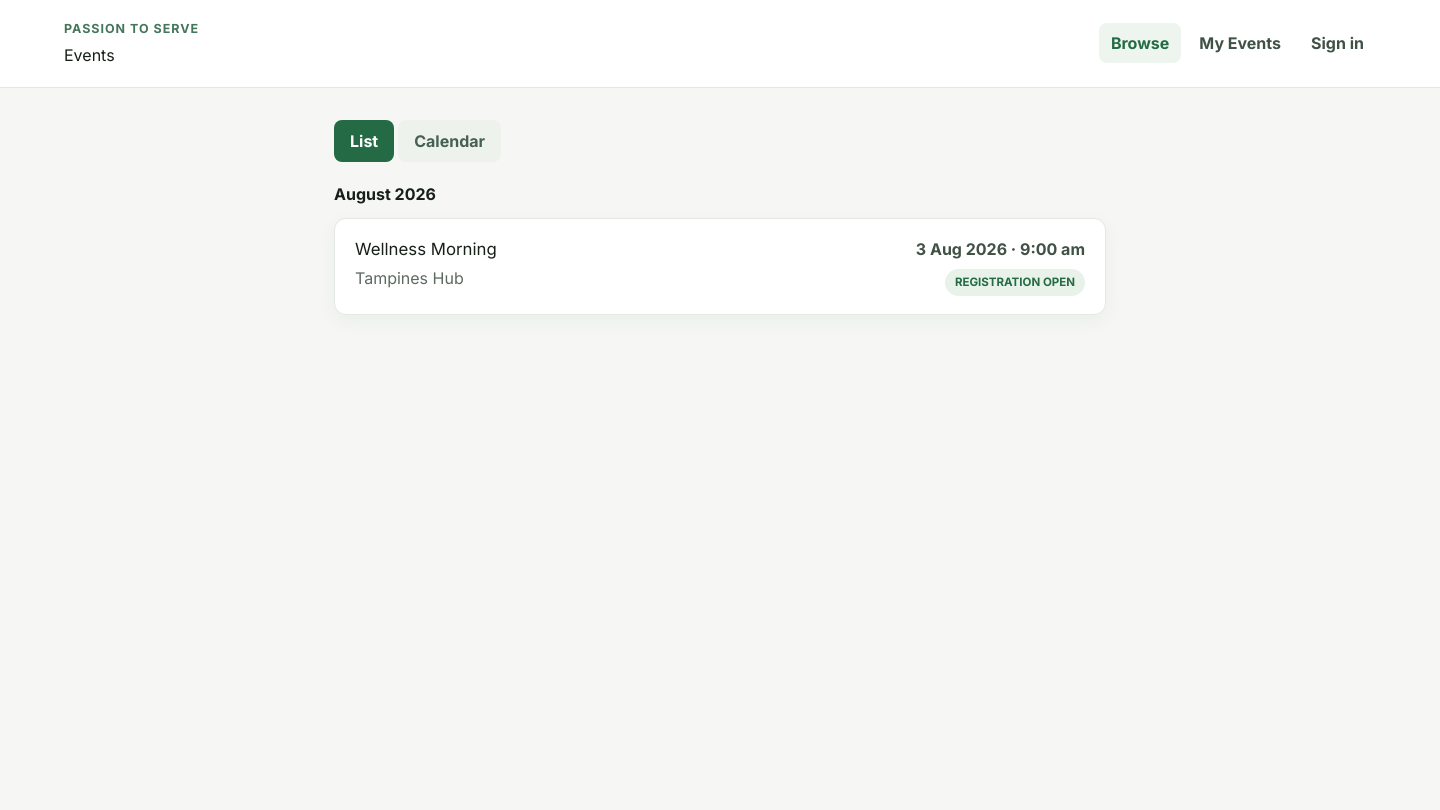
Scenario: Calendar view › plots events on their date and opens the detail page on click
The width and height of the screenshot is (1440, 810).
Expected: the heading "Wellness Morning" is shown, x1=355 y1=237 x2=497 y2=262
Click the tab "Calendar" at (450, 141), box x1=398 y1=120 x2=501 y2=162
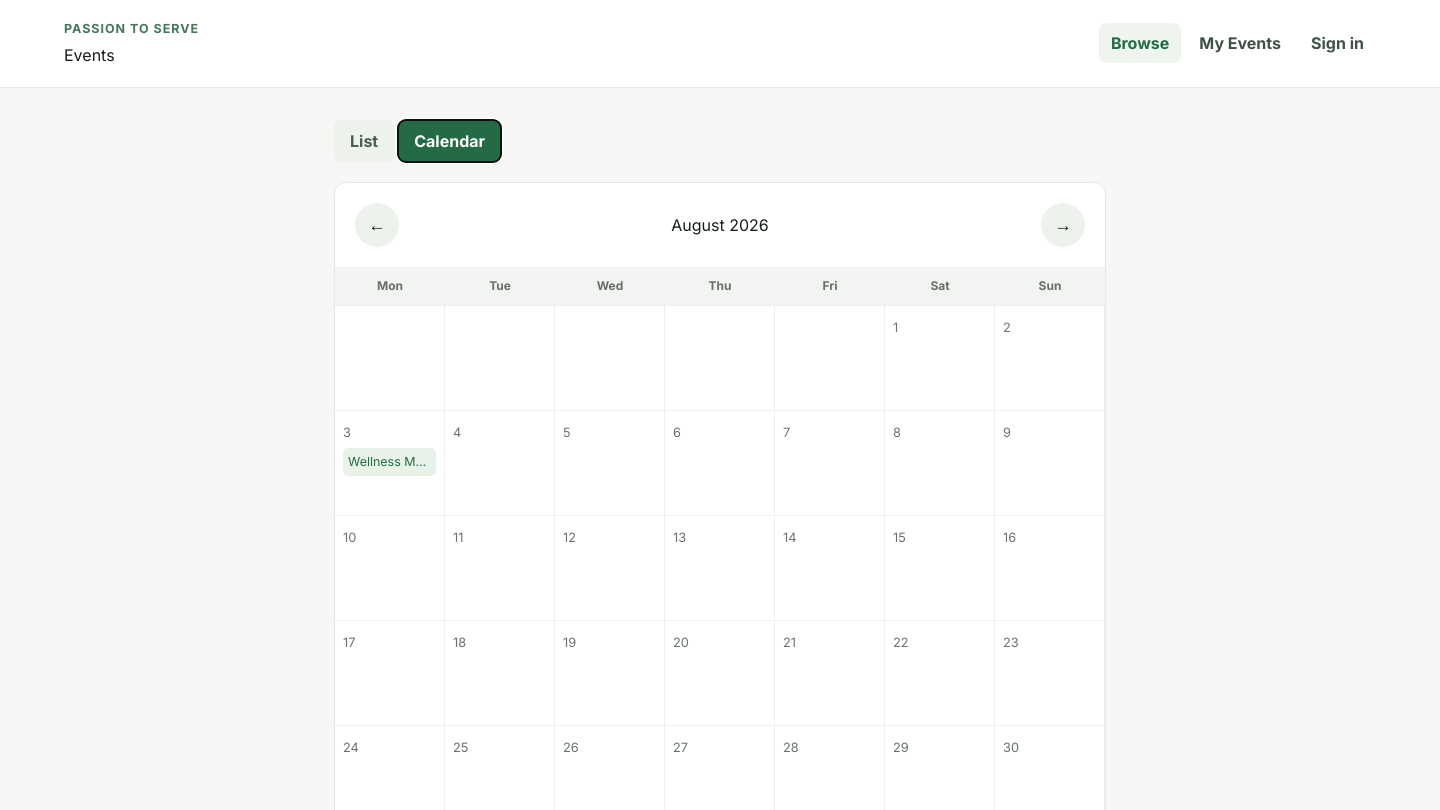
Click the link "Wellness Morning" at (390, 462), box x1=343 y1=448 x2=436 y2=476
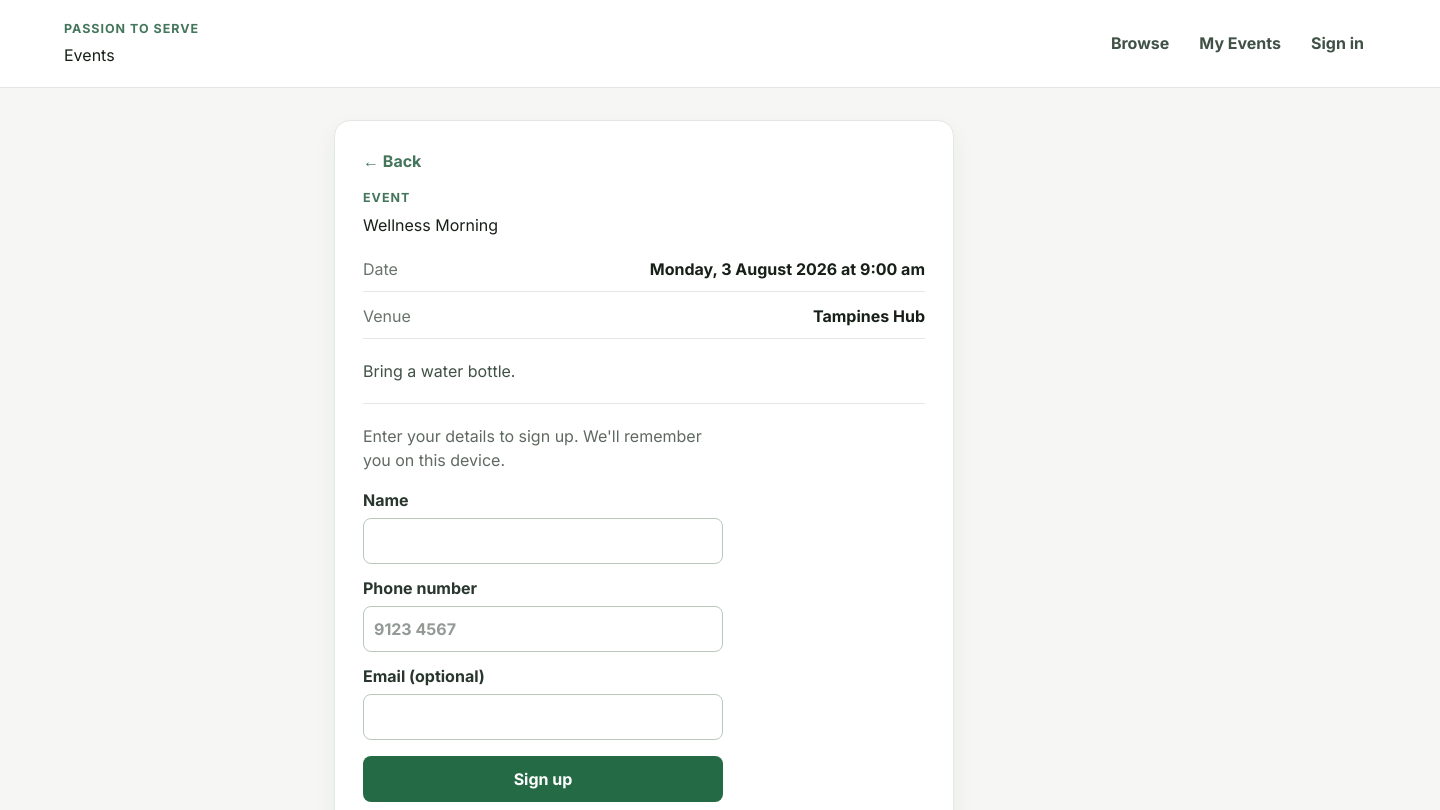
Expected: the text "Bring a water bottle." is shown, x1=363 y1=361 x2=516 y2=381
